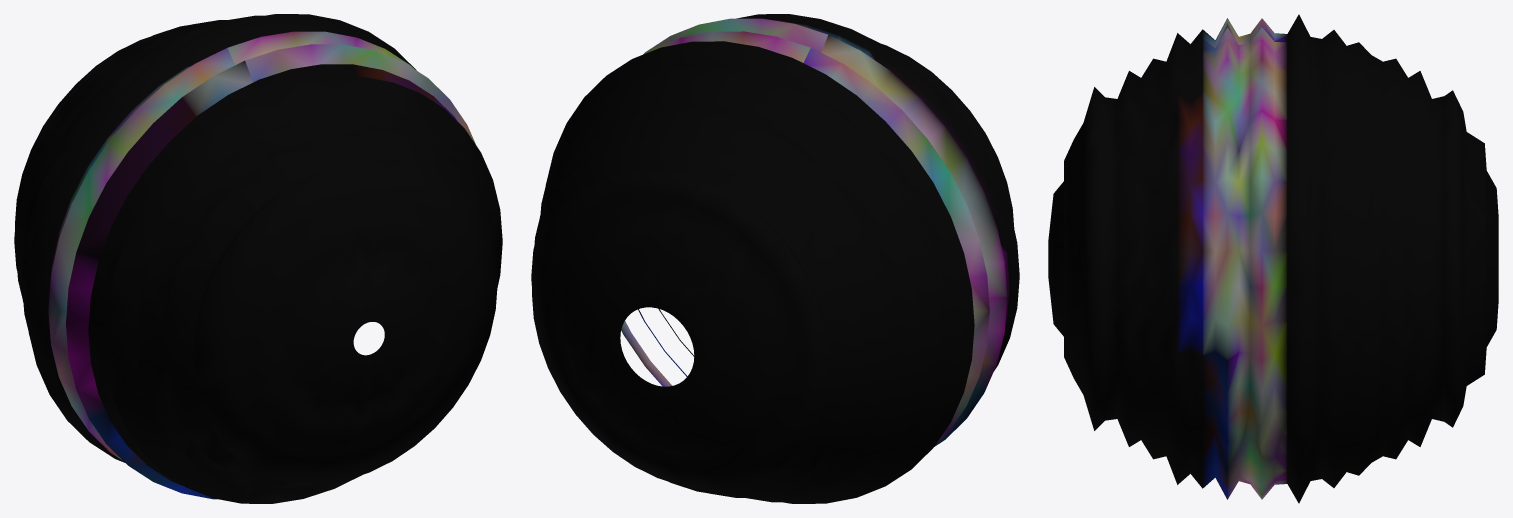
The model's file is SM_goldenlychee_SpinBall.gltf.
3 renders of one model, left to right at view 1: azimuth 30°, elevation 25°; view 2: azimuth 150°, elevation 25°; view 3: azimuth 270°, elevation 25°, orthographic.
Parts seen in each view (by area): view 1: SM_goldenlychee_SpinBall; view 2: SM_goldenlychee_SpinBall; view 3: SM_goldenlychee_SpinBall.
Boxes of the visible parts, <box> form: SM_goldenlychee_SpinBall: <box>14,14,502,503</box>; SM_goldenlychee_SpinBall: <box>531,14,1019,503</box>; SM_goldenlychee_SpinBall: <box>1048,14,1498,503</box>.
Bounding box in the file's own units: 2.03 × 2.03 × 1.87.
